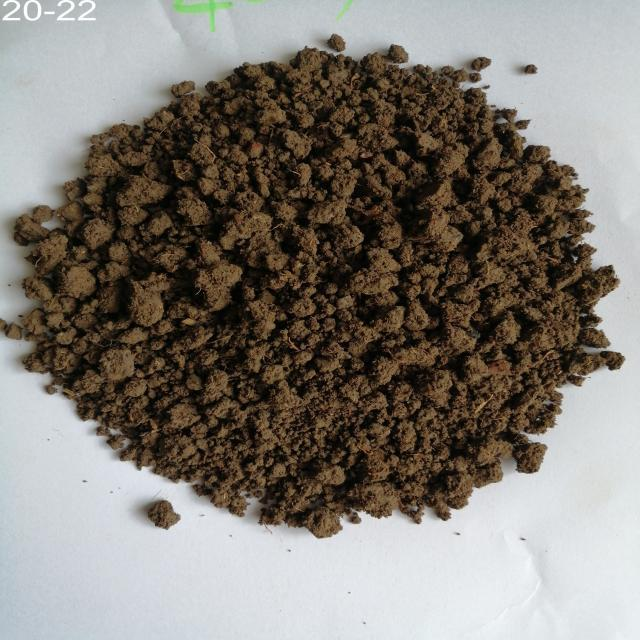soil: (114, 141, 529, 462)
